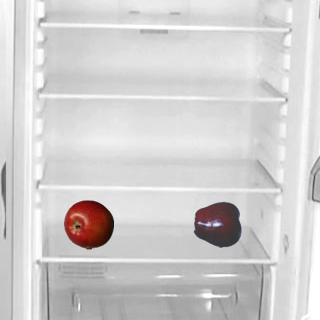Apple Braeburn: (63, 199, 113, 249)
Apple Red Delicious: (193, 199, 243, 249)
